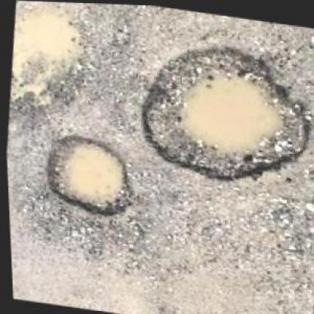Hueco: (127, 28, 313, 195), (36, 128, 135, 220)
